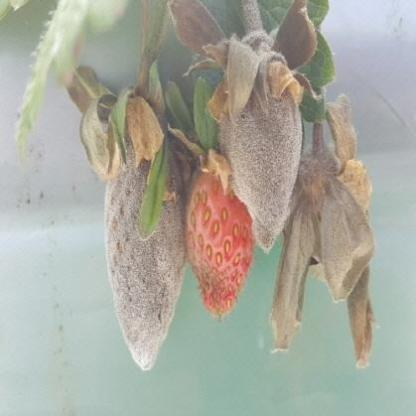Strawberry_Gray_Mold: (184, 30, 320, 256), (104, 98, 188, 370)
